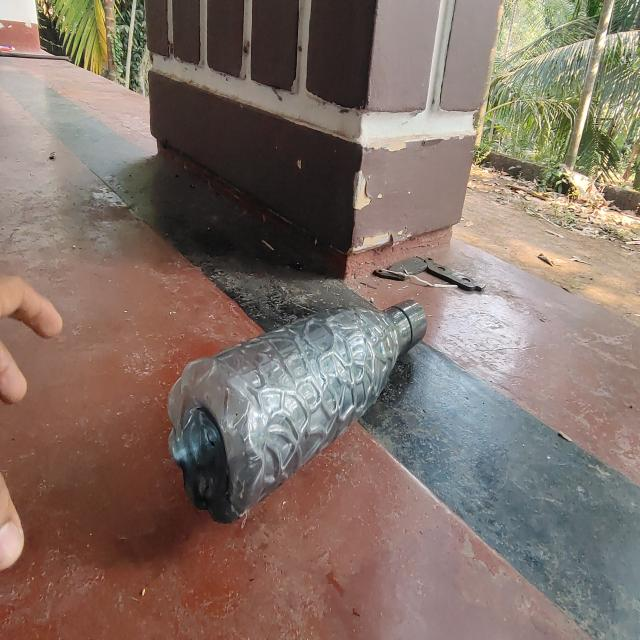plastic: (162, 295, 426, 523)
